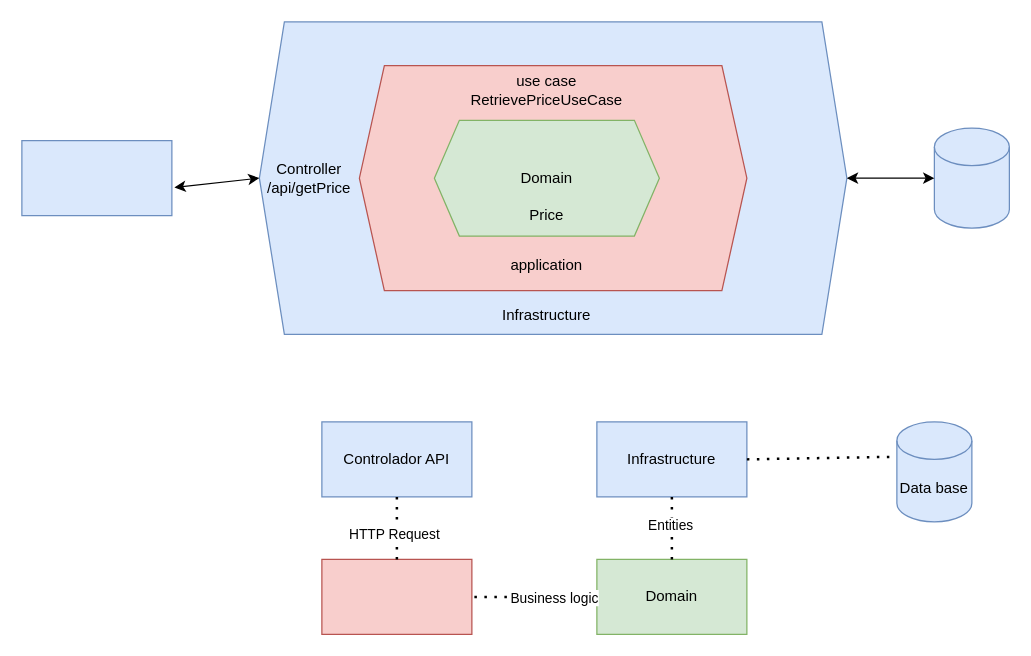
Image size: 1031x656. Some labels were removed from this diagram. Each missing label, with the centre of its shape:
H2 data base: [971,177]
HTTP client: [96,177]
Use Case: [396,596]
